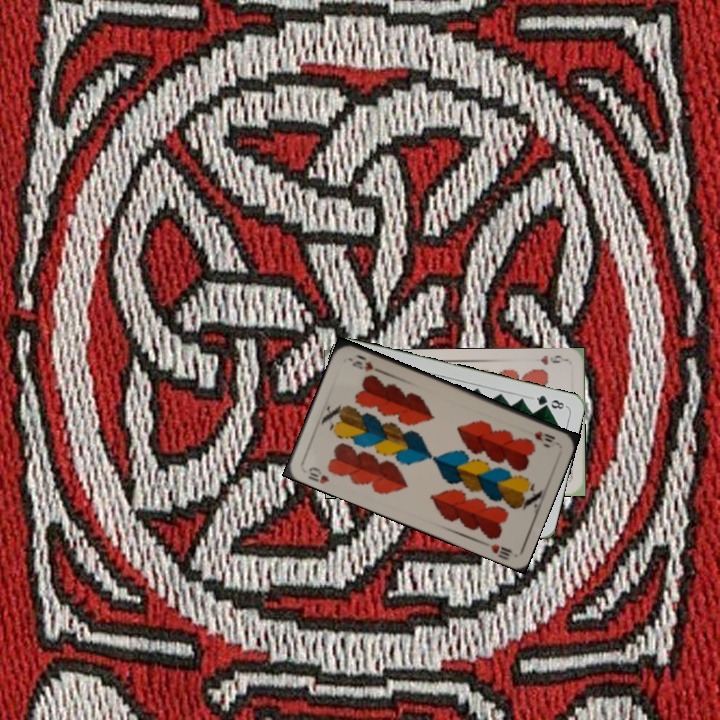G8: (529, 391, 569, 412)
H10: (304, 462, 332, 486), (530, 427, 558, 445)
H9: (537, 351, 568, 367)
